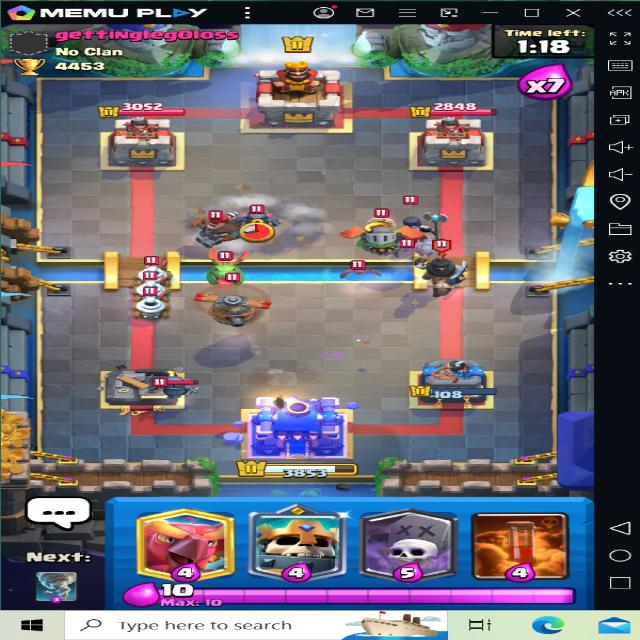baby-dragon: (190, 250, 258, 284)
bats: (338, 258, 382, 278), (394, 239, 426, 255)
dark-prince: (412, 243, 470, 292)
flying-machine: (186, 275, 274, 329)
hunter: (190, 207, 252, 246)
inferno-dragon: (350, 206, 402, 258)
mini-pekka: (223, 203, 295, 234), (150, 368, 202, 398)
night-witch: (396, 201, 447, 244)
zappie: (138, 254, 179, 280), (134, 289, 170, 318), (135, 266, 170, 295)
